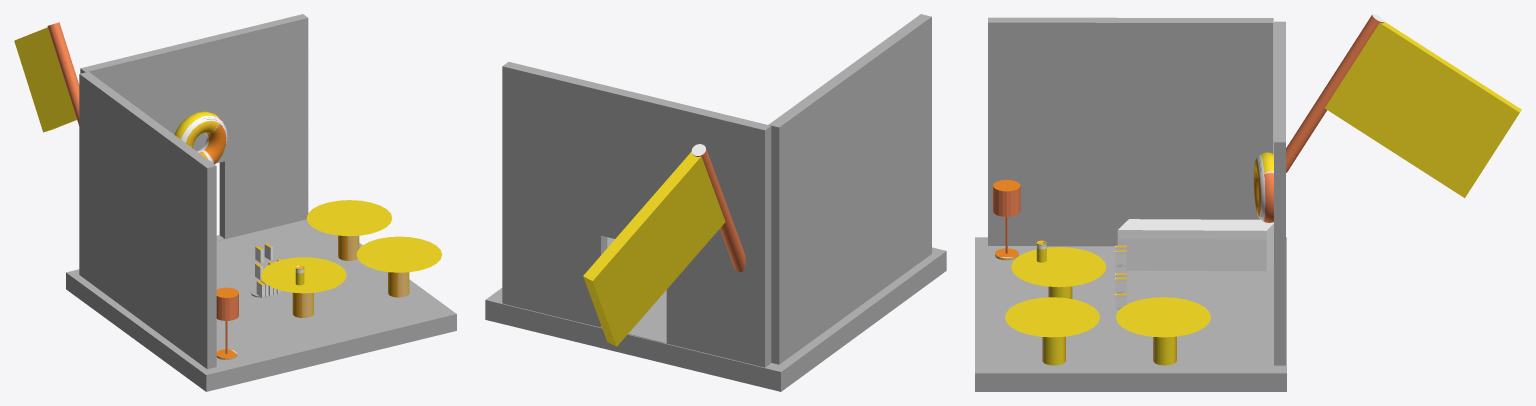
Rendered from saloon111.fbx.
3 views of the same model, side by side, from view 1: azimuth 30°, elevation 25°; view 2: azimuth 150°, elevation 25°; view 3: azimuth 270°, elevation 25° (orthographic). The views are drawn at different scales.
Parts seen in each view (by area): view 1: wall, pasted__pasted__pasted__tabel_1 (×2), AmericanFlag111:pCylinder2, pasted__pasted__tabel_1, pTorus1, lAMP_1:lamp; view 2: wall, AmericanFlag111:pCylinder2; view 3: wall, AmericanFlag111:pCylinder2, pCube5, pasted__pasted__pasted__tabel_1 (×2), pasted__pasted__tabel_1, lAMP_1:lamp, pTorus1.
Boxes of the visible parts, left/top/right/bottom form: wall: left=66, top=14, right=456, bottom=391; pasted__pasted__pasted__tabel_1 (×2): left=261, top=200, right=392, bottom=317; AmericanFlag111:pCylinder2: left=14, top=22, right=79, bottom=132; pasted__pasted__tabel_1: left=356, top=236, right=442, bottom=297; pTorus1: left=174, top=111, right=227, bottom=164; lAMP_1:lamp: left=216, top=287, right=238, bottom=359; wall: left=485, top=14, right=946, bottom=391; AmericanFlag111:pCylinder2: left=583, top=144, right=745, bottom=346; wall: left=975, top=17, right=1286, bottom=391; AmericanFlag111:pCylinder2: left=1286, top=14, right=1521, bottom=197; pCube5: left=1117, top=219, right=1273, bottom=271; pasted__pasted__pasted__tabel_1 (×2): left=1011, top=247, right=1210, bottom=365; pasted__pasted__tabel_1: left=1005, top=297, right=1099, bottom=365; lAMP_1:lamp: left=993, top=180, right=1020, bottom=260; pTorus1: left=1253, top=152, right=1273, bottom=223.
Bounding box in the file's own units: 28.58 × 23.93 × 45.93.
2 materials, 1 textured.
